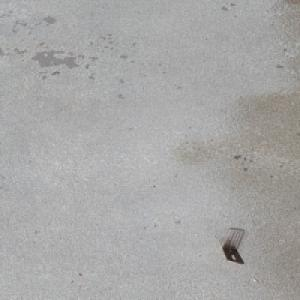MetalPart: (221, 227, 245, 265)
